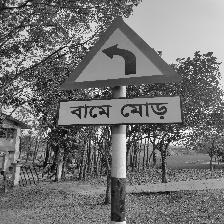Left-Turn: (56, 16, 186, 129)
